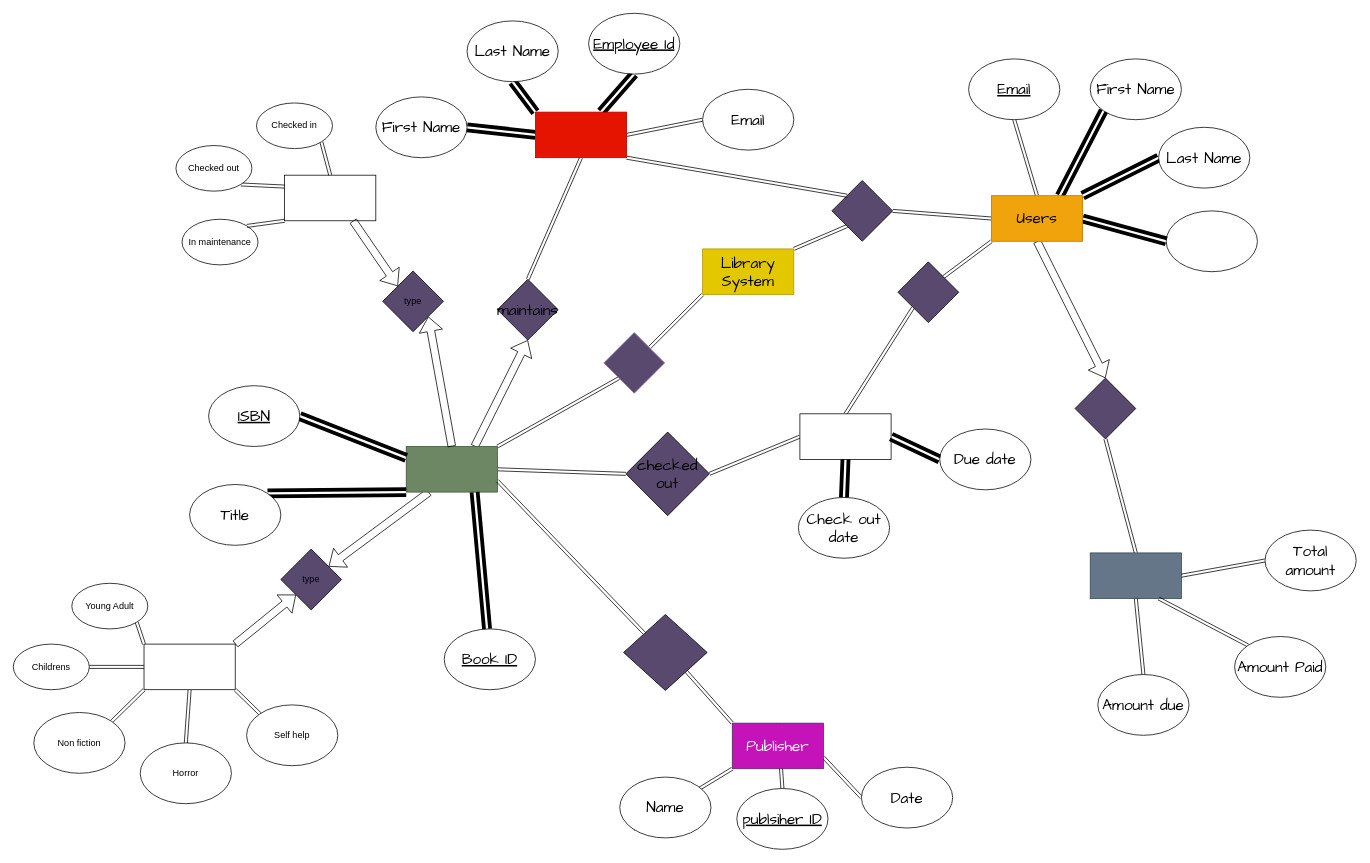
This 1370x863 diagram has some shape labels left out. Here are the shapes that lost their labels. From the top down, the centre of each, then its label:
pixel 581 134: Employees
pixel 330 197: Status
pixel 862 210: Login
pixel 1211 241: User Id
pixel 928 292: borrow
pixel 634 362: own
pixel 1105 408: owes
pixel 845 436: Books Checked out
pixel 451 469: Books
pixel 1135 575: Fines
pixel 189 666: Genre
pixel 665 652: publushed by
